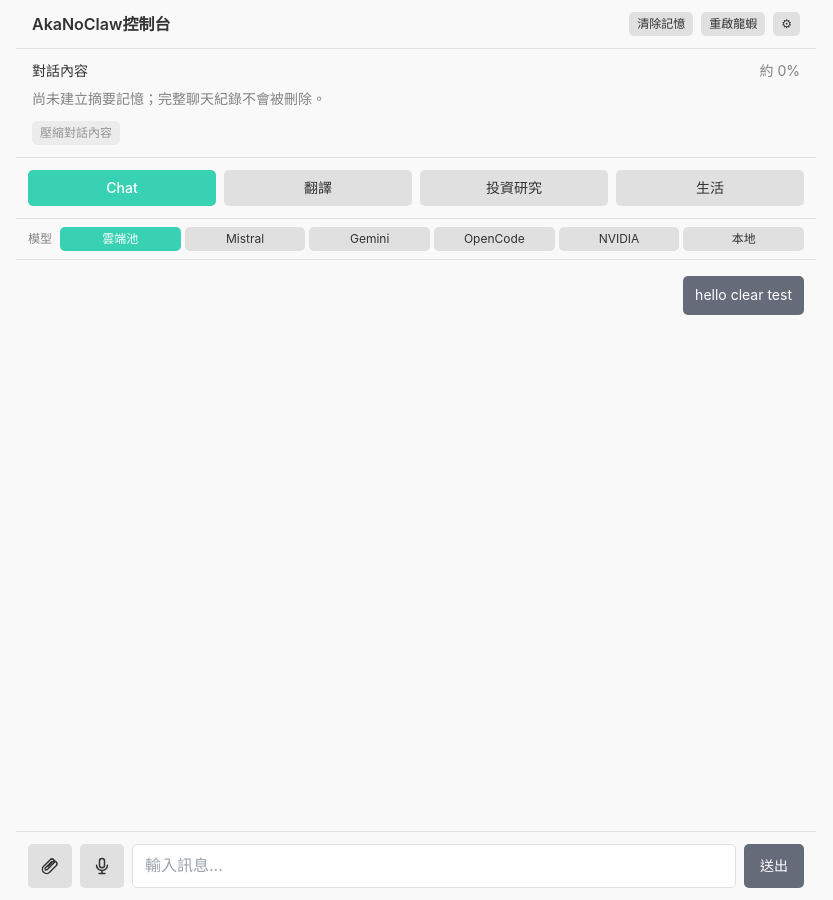
it: App — clear memory (#2) › 取消 dismisses confirm UI without clearing messages
Expected: the text "hello clear test" is shown, [683,276,804,315]
Click the button "清除記憶".
click(661, 24)  # box [629,12,693,36]
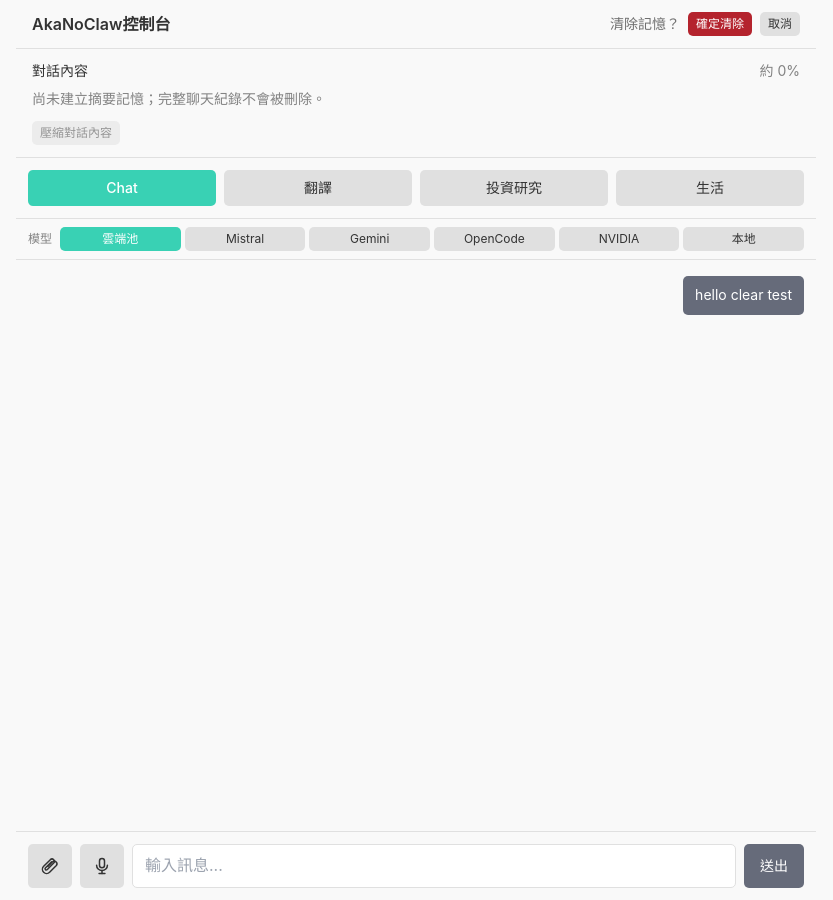
Click the button "取消".
click(780, 24)  # box [760,12,800,36]
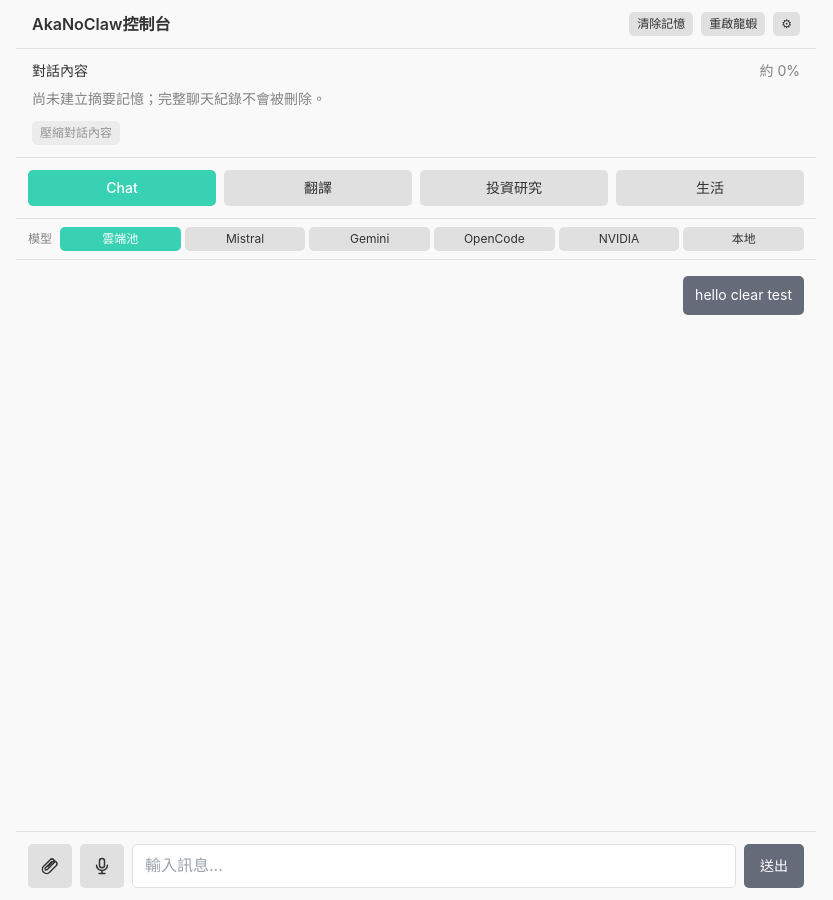
Expected: the text "hello clear test" is shown, [683,276,804,315]
Expected: the button "確定清除" is gone
